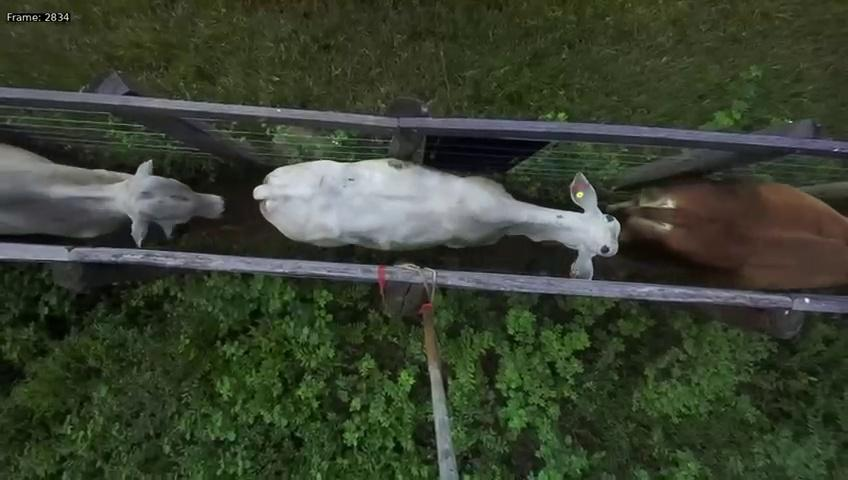cattle: (250, 126, 624, 280)
